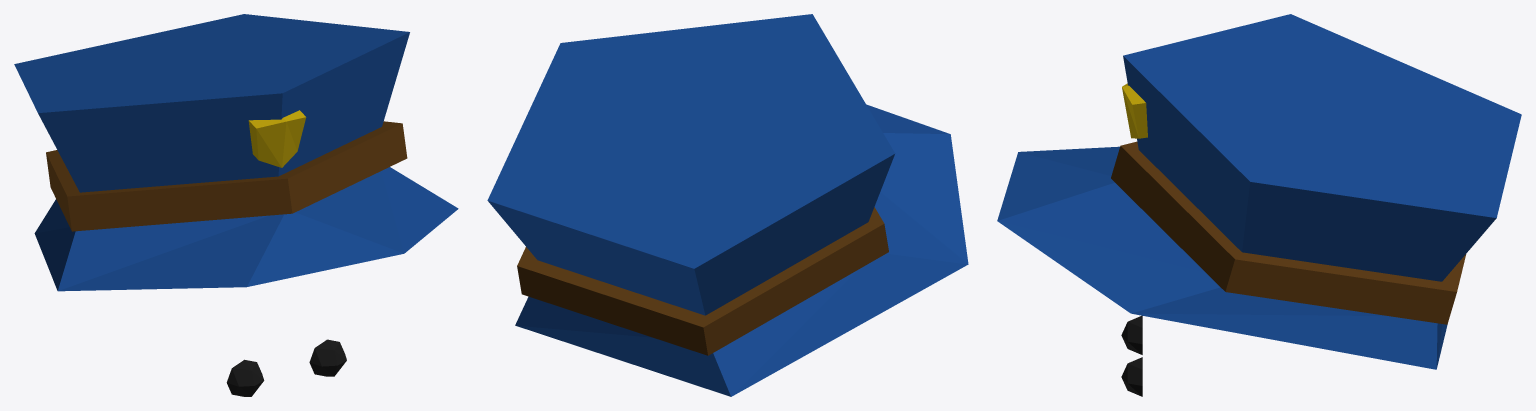
Rendered from postman_addons.FBX.
3 renders of one model, left to right at view 1: azimuth 30°, elevation 25°; view 2: azimuth 150°, elevation 25°; view 3: azimuth 270°, elevation 25°, orthographic. The views are drawn at different scales.
Parts seen in each view (by area): view 1: hat, eyeR, eyeL; view 2: hat; view 3: hat, eyeR, eyeL.
Boxes of the visible parts, x1,y1,x2,y2 form: hat: (14, 14, 458, 291); eyeR: (309, 339, 346, 376); eyeL: (226, 359, 264, 396); hat: (487, 14, 968, 396); hat: (997, 14, 1521, 369); eyeR: (1121, 357, 1142, 396); eyeL: (1121, 315, 1142, 354).
Bounding box in the file's own units: 54.96 × 42.04 × 63.77.
